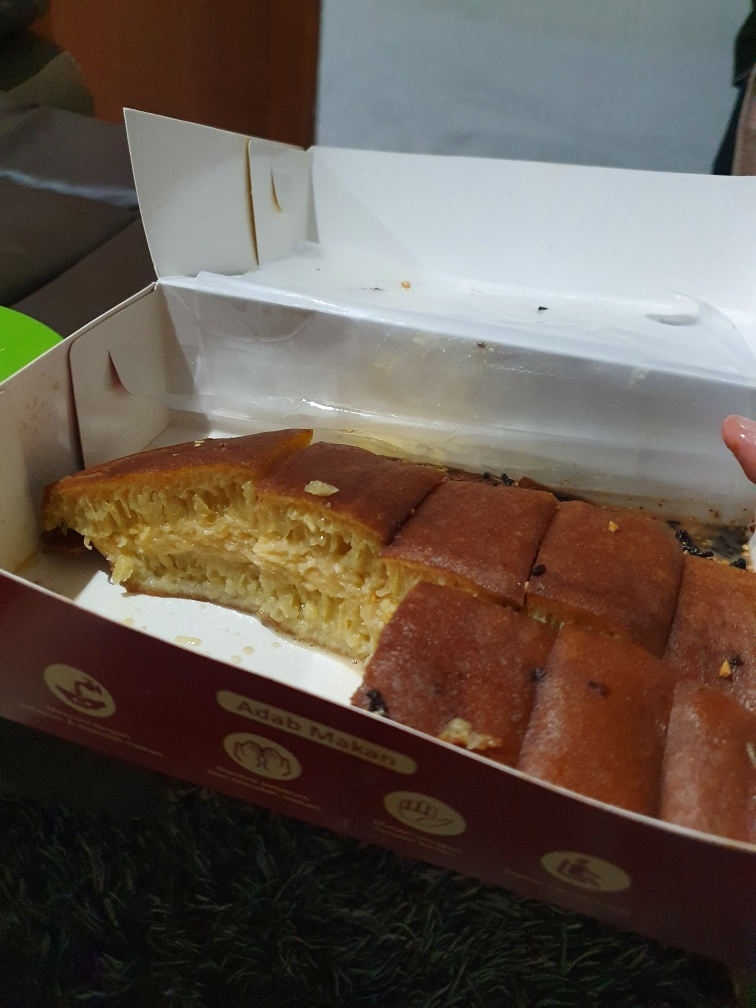martabak manis: (29, 399, 291, 598), (344, 579, 533, 806), (524, 614, 675, 868), (364, 455, 544, 653), (259, 421, 403, 649), (512, 483, 671, 664), (662, 673, 756, 864), (655, 533, 756, 697)
